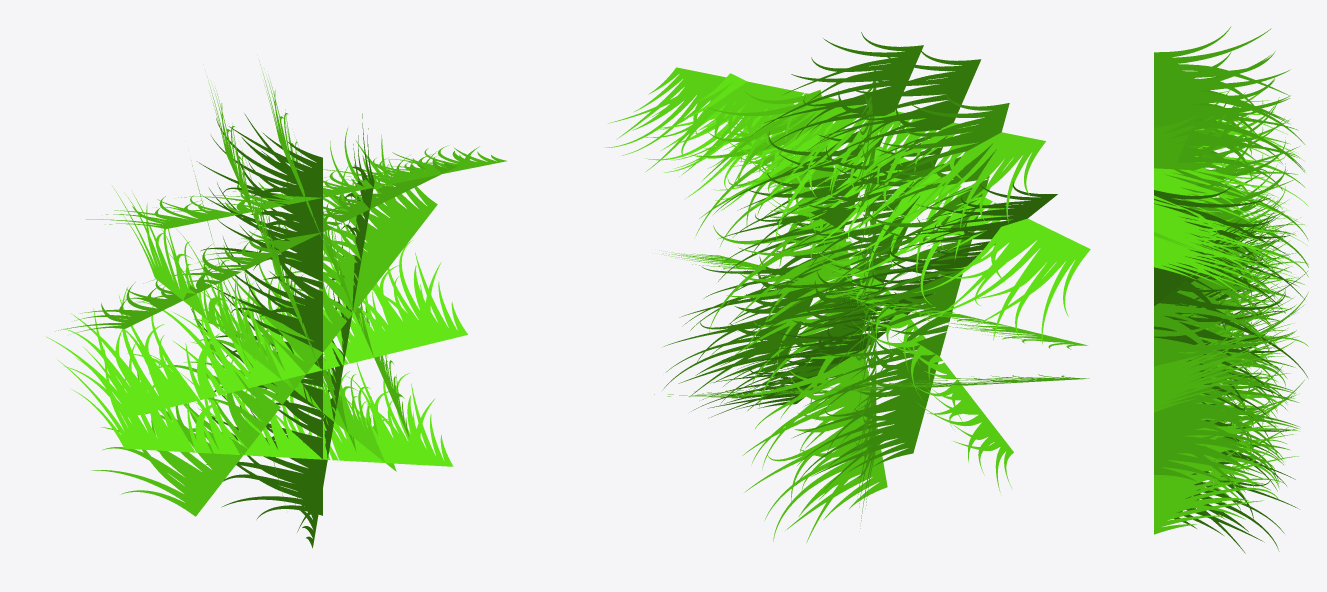
Rendered from Hierba.fbx.
The picture shows the model from 3 angles, left to right: view 1: azimuth 30°, elevation 25°; view 2: azimuth 150°, elevation 25°; view 3: azimuth 270°, elevation 25°; orthographic projection. The views are drawn at different scales.
Visible parts, largest first — view 1: Plane.227; view 2: Plane.227; view 3: Plane.227.
Part boxes in pixels (x1,y1,x2,y2): Plane.227: (46,61,506,548); Plane.227: (604,32,1090,542); Plane.227: (1154,26,1308,553).
Bounding box in the file's own units: 132 × 119 × 36.9.
